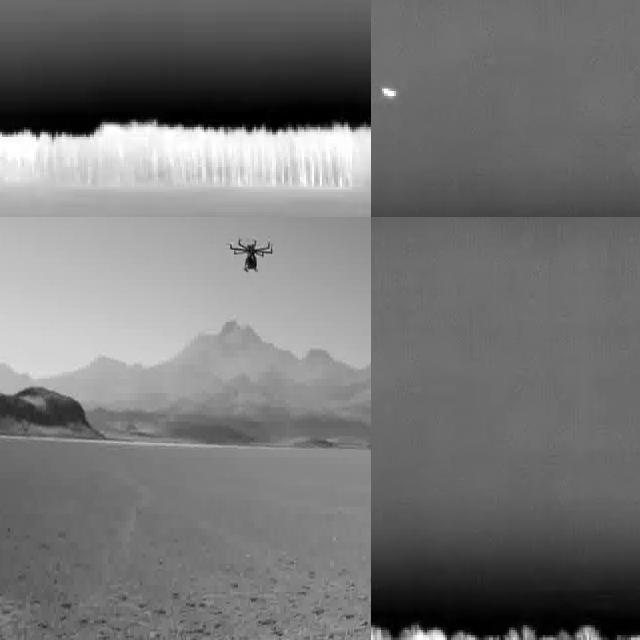1: (371, 81, 406, 111)
drone: (228, 226, 273, 277)
